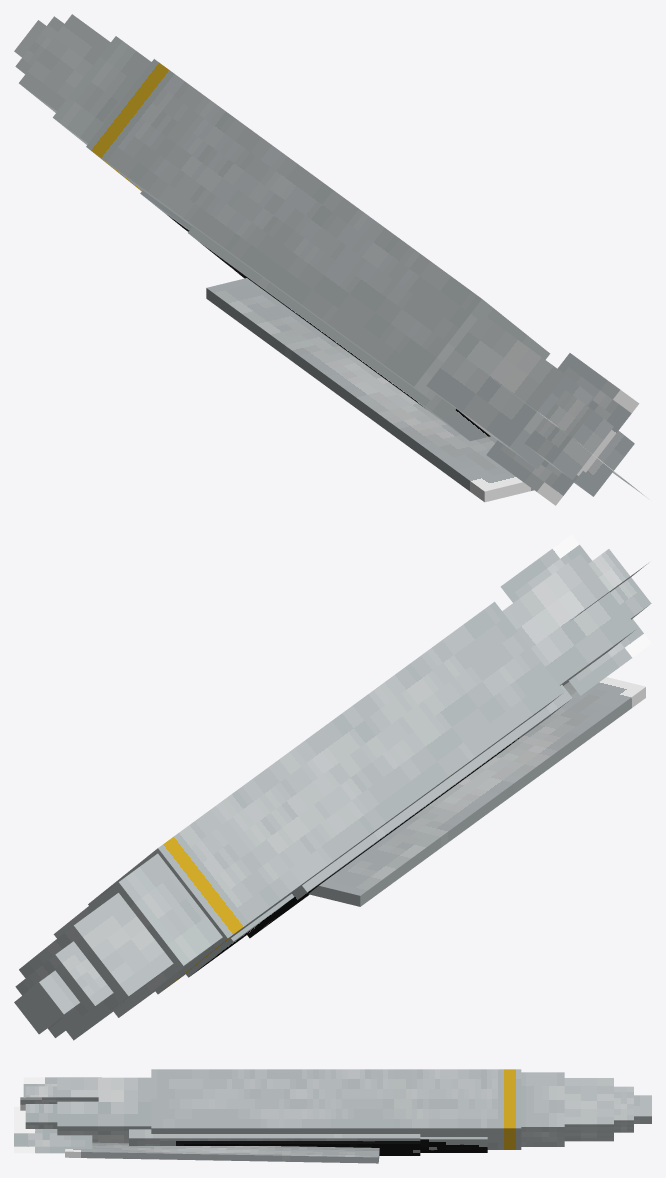
Rendered from gbu39.obj.
3 renders of one model, top to bottom at view 1: azimuth 30°, elevation 25°; view 2: azimuth 150°, elevation 25°; view 3: azimuth 270°, elevation 25°, orthographic. The views are drawn at different scales.
Parts seen in each view (by area): view 1: body, cube, wing; view 2: body, cube, wing; view 3: body, cube, wing.
Part boxes in pixels (x1,y1,x2,y2): body: (86,59,550,441); cube: (14,14,649,505); wing: (206,278,533,502); body: (88,601,572,994); cube: (14,534,651,1040); wing: (308,677,645,906); body: (129,1069,521,1155); cube: (14,1072,651,1153); wing: (65,1142,379,1163).
Size of the model in its own units: 0.2654 by 0.2662 by 1.78.
